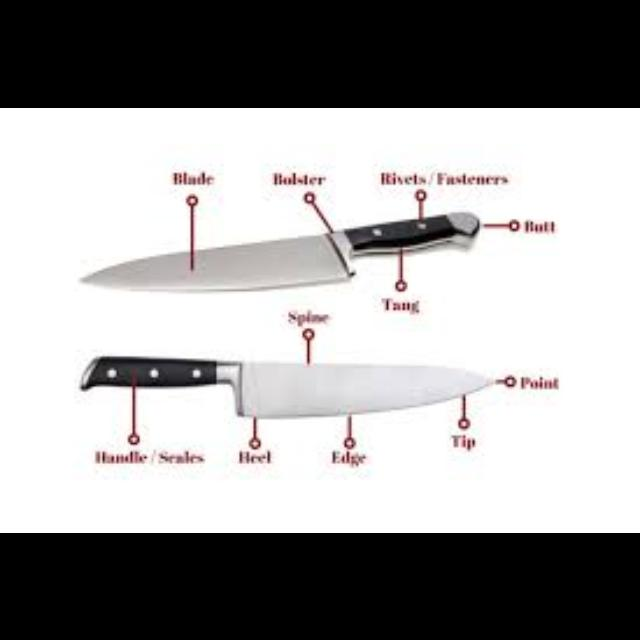Knife: (77, 208, 479, 290), (80, 354, 500, 418)
